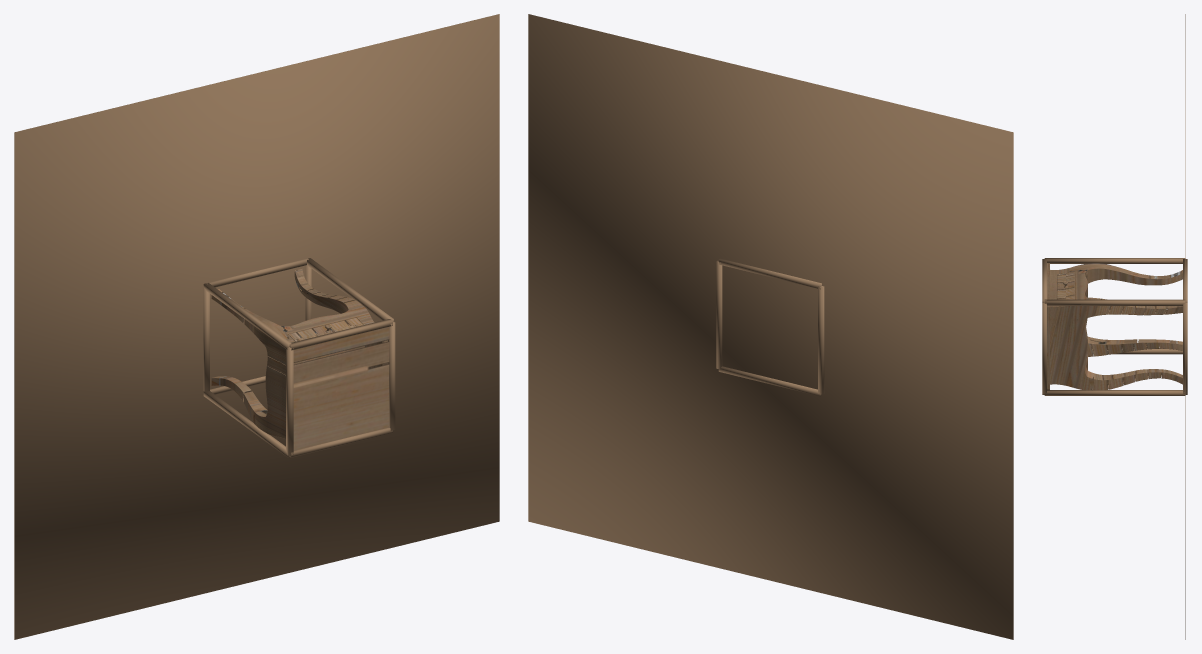
3 views of the same model, side by side, from view 1: azimuth 30°, elevation 25°; view 2: azimuth 150°, elevation 25°; view 3: azimuth 270°, elevation 25° (orthographic). The views are drawn at different scales.
Bounding box in the file's own units: 2 × 2 × 0.6181.
